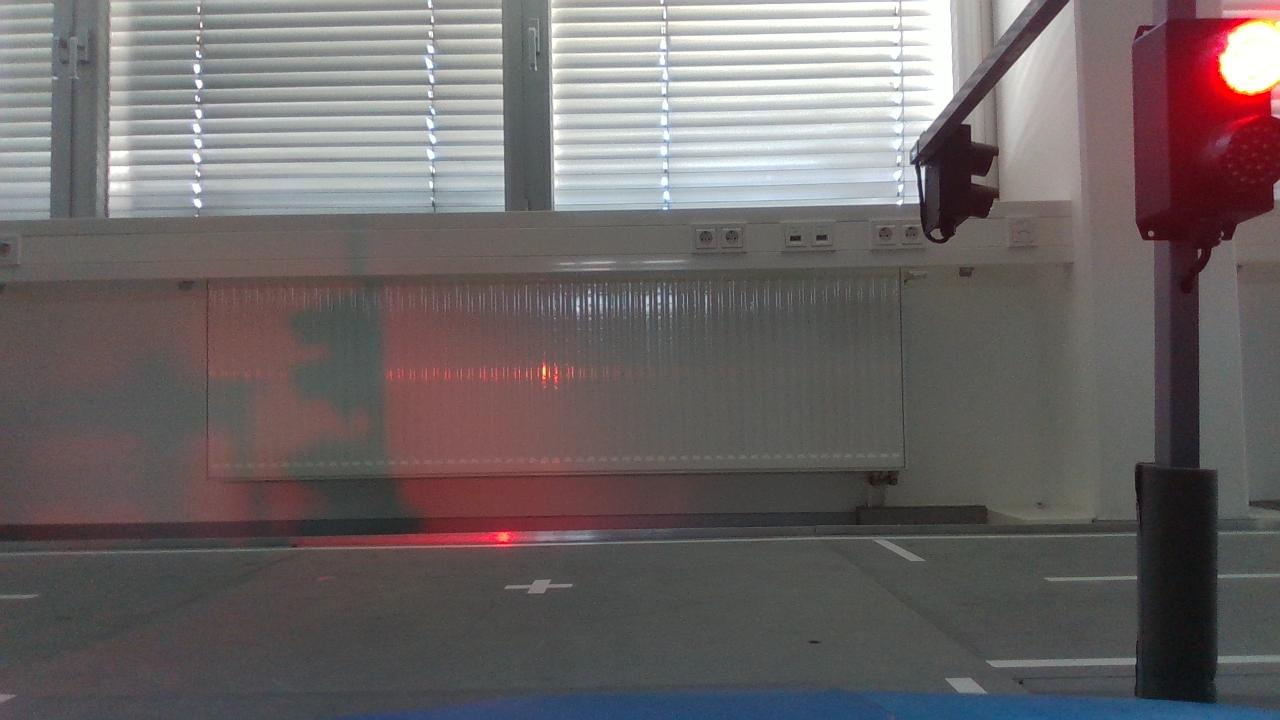traffic_light_red: (1116, 12, 1280, 264)
